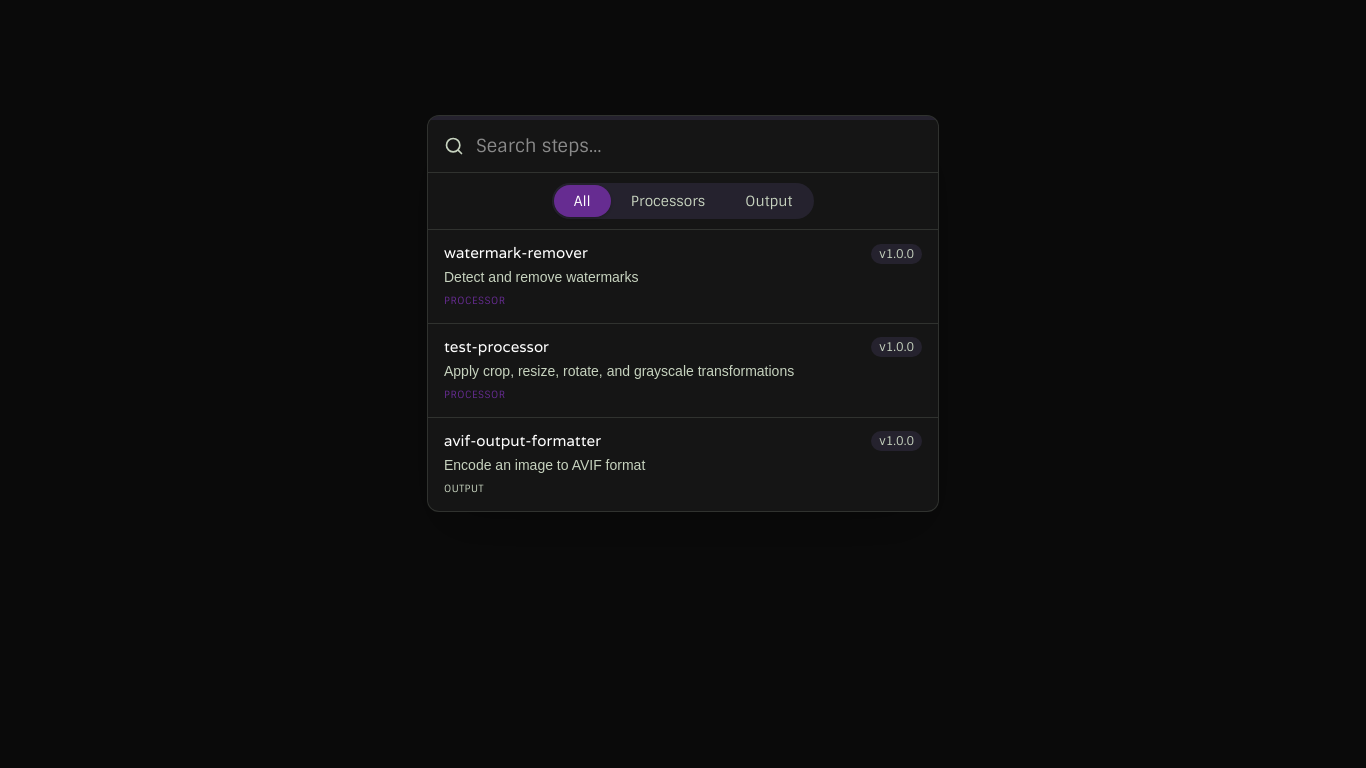
Test: StepSearch › filters to processors only when Processors pill is clicked
The width and height of the screenshot is (1366, 768).
Expected: the text "watermark-remover" is shown, 444,242 -> 588,265
Click the radio button "Processors".
click(668, 201)  # box 611,185 -> 725,217
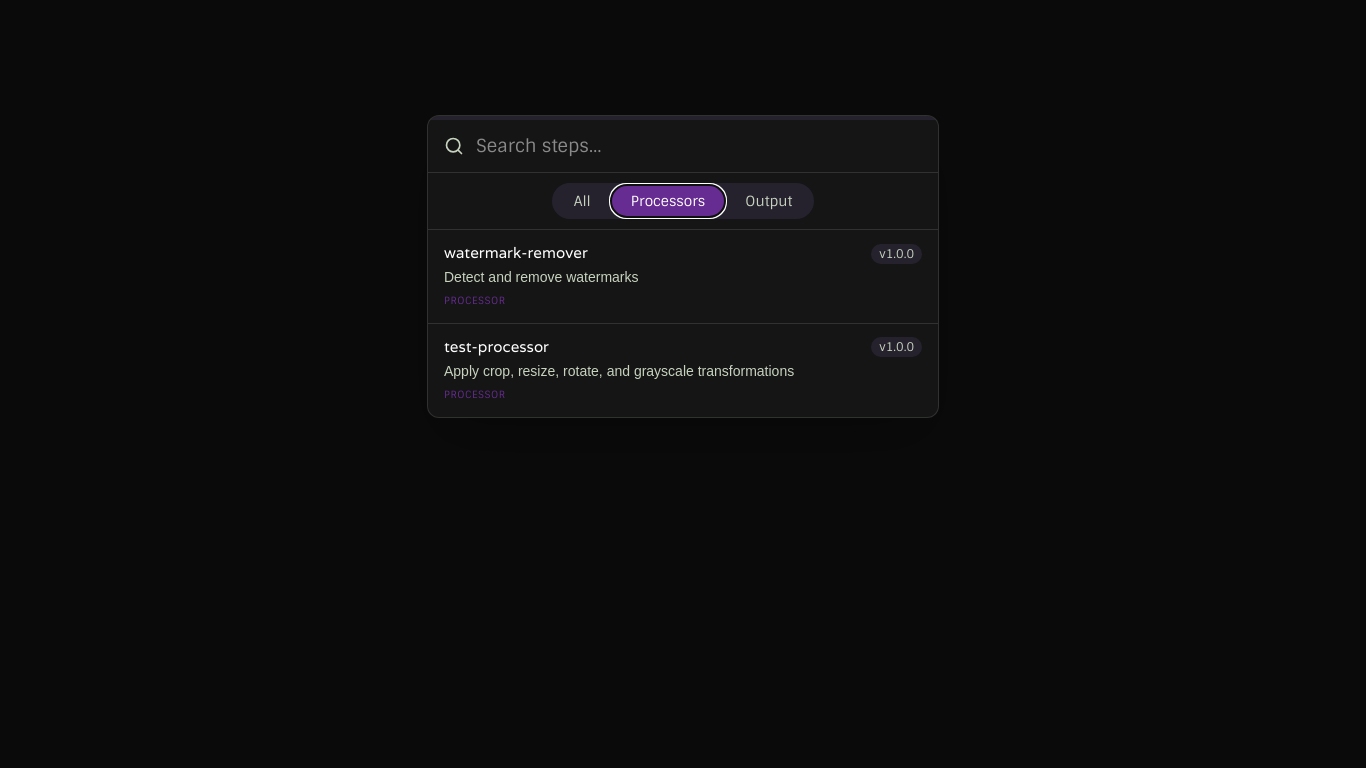
Expected: the text "watermark-remover" is shown, 444,242 -> 588,265
Expected: the button "avif-output-formatter" is gone
